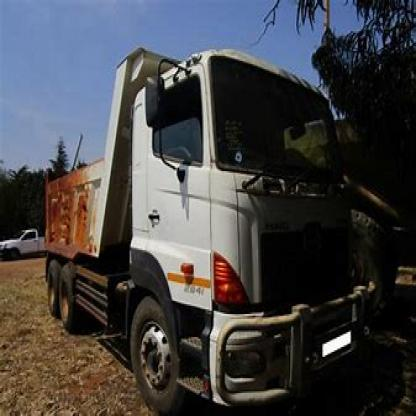dump_truck: (33, 41, 378, 414)
